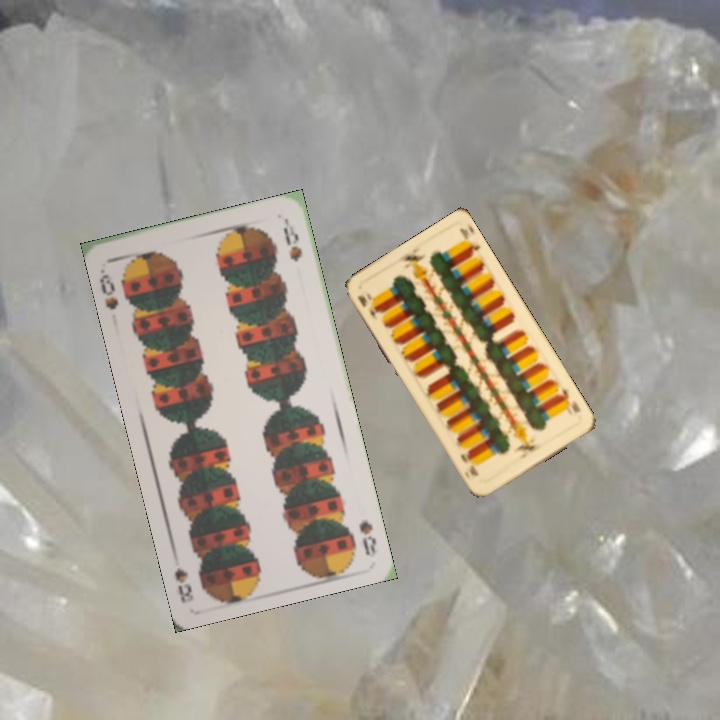E10: (553, 383, 583, 416), (354, 289, 383, 323)
S8: (96, 264, 121, 313), (355, 516, 379, 558)
